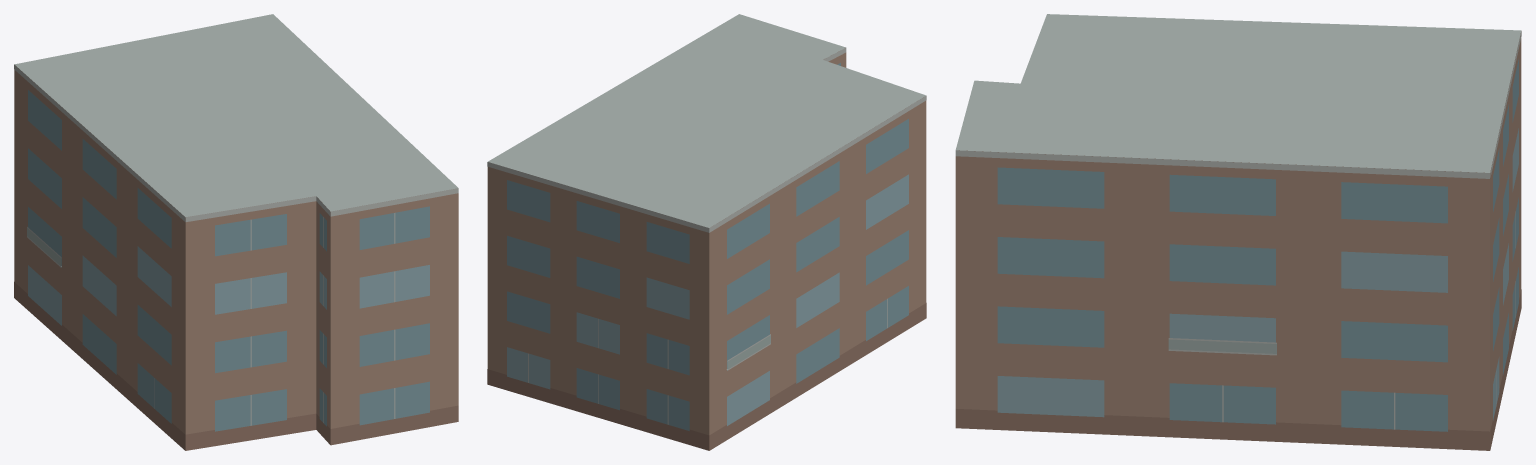
The model's file is survey-upis-32730957.glb.
3 renders of one model, left to right at view 1: azimuth 30°, elevation 25°; view 2: azimuth 150°, elevation 25°; view 3: azimuth 270°, elevation 25°, orthographic. The views are drawn at different scales.
Visible parts, largest first — view 1: survey-upis-32730957.tmp; view 2: survey-upis-32730957.tmp; view 3: survey-upis-32730957.tmp.
Boxes of the visible parts, x1=… form: survey-upis-32730957.tmp: x1=14, y1=14, x2=458, y2=450; survey-upis-32730957.tmp: x1=487, y1=14, x2=926, y2=450; survey-upis-32730957.tmp: x1=955, y1=14, x2=1521, y2=450.
Bounding box in the file's own units: 13.88 × 11.3 × 20.87.
